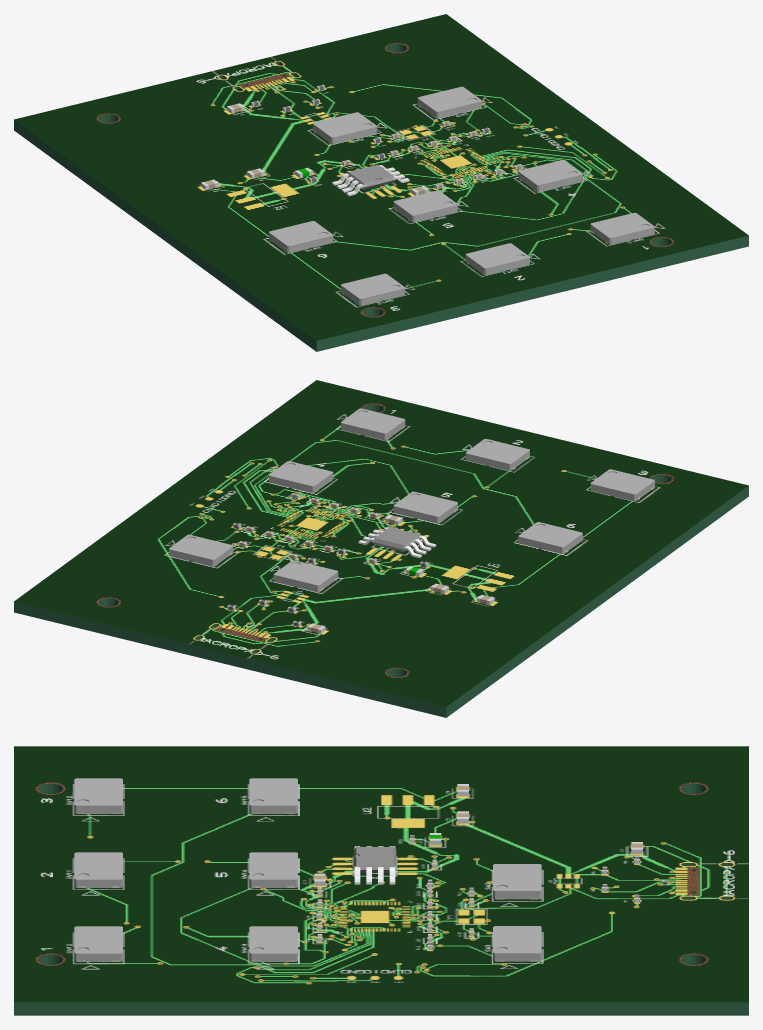
3 views of the same model, one above another, from view 1: azimuth 30°, elevation 25°; view 2: azimuth 150°, elevation 25°; view 3: azimuth 270°, elevation 25° (orthographic). The views are drawn at different scales.
Visible parts, largest first — view 1: Box0, SW14, SW2, SW10, SW12, SW3, SW11, SW15, SW13, U4; view 2: Box0, SW2, SW14, SW10, SW12, SW3, SW13, SW11, SW15, U4; view 3: Box0, SW11, SW12, SW14, SW15, SW2, SW3, SW10, SW13, U4.
Part boxes in pixels (x1,y1,x2,y2): Box0: [14, 14, 748, 351]; SW14: [393, 190, 457, 222]; SW2: [313, 112, 377, 144]; SW10: [590, 212, 654, 244]; SW12: [341, 273, 405, 305]; SW3: [417, 86, 481, 118]; SW11: [465, 243, 529, 275]; SW15: [269, 221, 333, 252]; SW13: [518, 160, 582, 191]; U4: [332, 164, 409, 195]; Box0: [14, 380, 748, 717]; SW2: [273, 560, 338, 592]; SW14: [393, 491, 457, 523]; SW10: [341, 408, 405, 440]; SW12: [590, 469, 654, 501]; SW3: [169, 534, 233, 566]; SW13: [269, 461, 333, 493]; SW11: [465, 439, 529, 470]; SW15: [518, 522, 582, 553]; U4: [358, 526, 436, 558]; Box0: [14, 746, 748, 1015]; SW11: [74, 852, 122, 887]; SW12: [74, 778, 122, 813]; SW14: [249, 852, 297, 887]; SW15: [249, 778, 297, 813]; SW2: [493, 864, 541, 899]; SW3: [493, 926, 541, 961]; SW10: [74, 926, 122, 961]; SW13: [249, 926, 297, 961]; U4: [353, 846, 396, 884].
Size of the model in its own units: 66 by 2.88 by 80.
10 materials, 2 textured.
